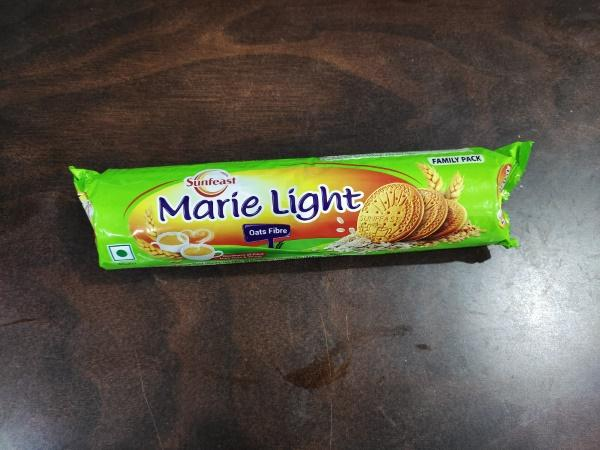MarieLight: (70, 134, 526, 278)
